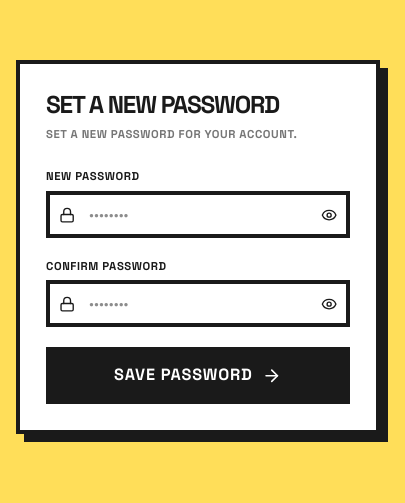
Test: ResetPassword › shows the updateUser error and stays on the page when the update fails
In the 1st password field with placeholder "••••••••": (198, 215) [46,191,350,238], type "secret123"
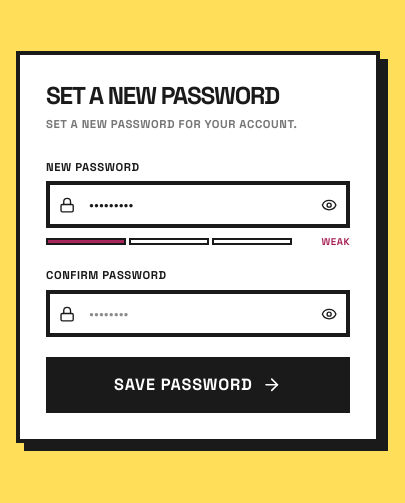
In the password field with placeholder "••••••••": (198, 314) [46,290,350,337], type "secret123"
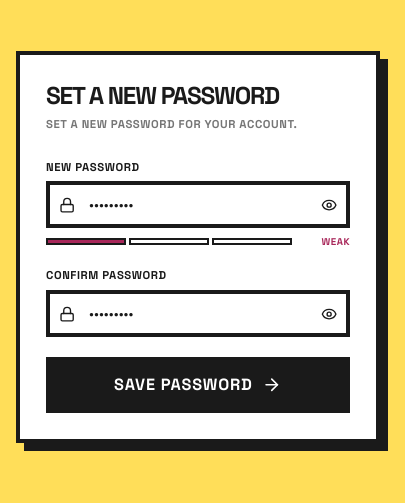
Click the submit button: (198, 385) [46,357,350,413]
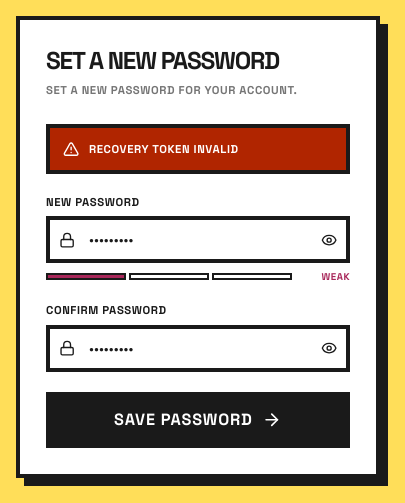
Expected: the heading "Set a new password" is shown, [46,45,279,76]
Expected: the text "Recovery token invalid" is shown, [89,141,239,157]
